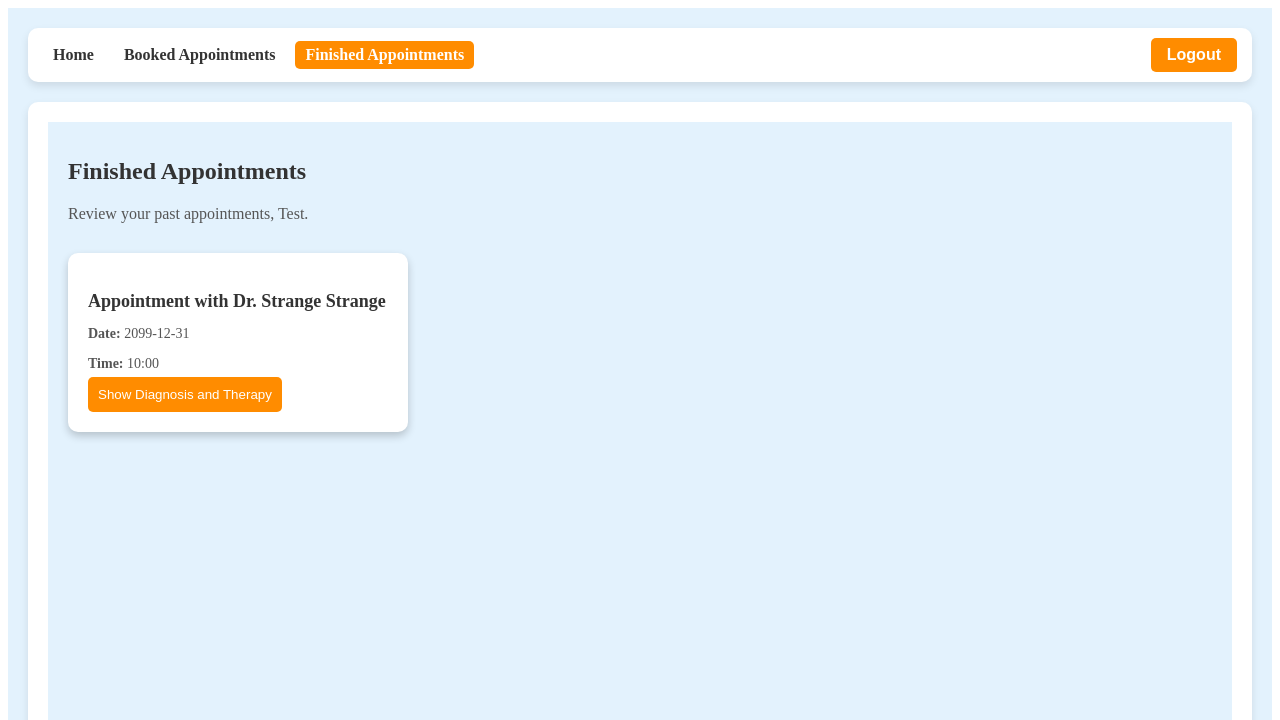
Test: Finished Appointments Page › when finished appointments exist › opens modal and shows diagnosis, therapy, and download button when available
Click the button "Show Diagnosis and Therapy": click(185, 395) [88, 377, 282, 412]
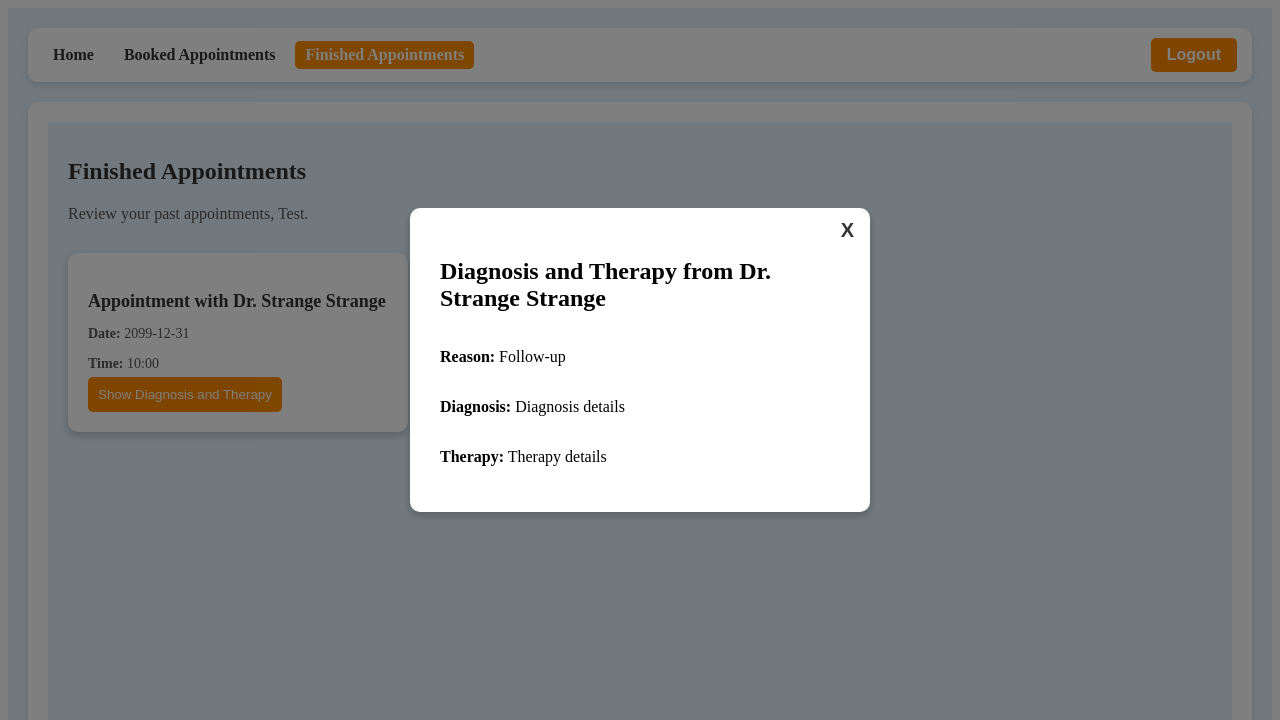
Check: the element with class "modal-overlay" is shown
Check: the heading "Diagnosis and Therapy from Dr. Strange Strange" is shown, box [440, 258, 771, 311]
Check: the text "Reason: Follow-up" is shown, box [440, 348, 566, 365]
